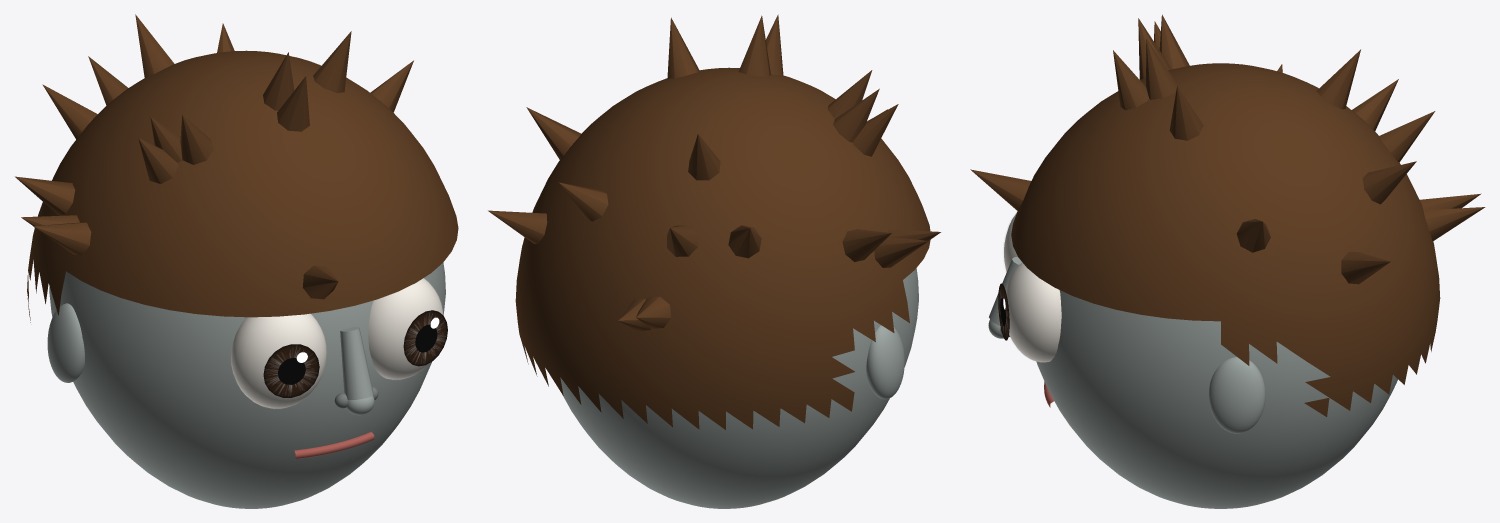
Rendered from autres-02-herisses.glb.
3 views of the same model, side by side, from view 1: azimuth 30°, elevation 25°; view 2: azimuth 150°, elevation 25°; view 3: azimuth 270°, elevation 25° (orthographic). The views are drawn at different scales.
Size of what is drawn, in the model's own units: 0.3376 by 0.373 by 0.3799.
Materials: 10 (1 with a texture image).
